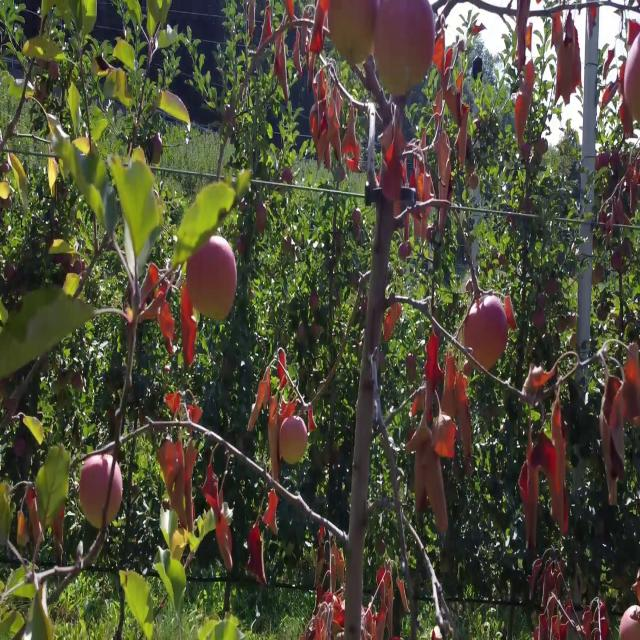apple: (376, 0, 436, 96), (190, 239, 236, 322), (462, 296, 508, 367), (328, 0, 377, 64), (78, 454, 122, 523), (623, 32, 640, 122), (278, 415, 308, 465), (619, 604, 640, 638), (149, 136, 162, 164), (257, 204, 267, 228), (611, 248, 622, 268), (521, 141, 531, 160), (597, 304, 608, 321), (282, 166, 292, 184), (398, 242, 408, 260), (311, 320, 321, 338), (556, 316, 566, 334), (533, 310, 544, 326), (298, 323, 307, 342), (566, 312, 576, 329), (468, 173, 478, 190), (335, 165, 345, 181), (309, 292, 319, 308), (406, 352, 416, 368), (538, 293, 548, 309), (538, 138, 548, 154), (425, 225, 434, 242), (548, 278, 557, 294), (600, 151, 609, 167), (351, 209, 361, 223), (282, 236, 291, 251), (570, 334, 576, 346), (473, 119, 480, 129)
